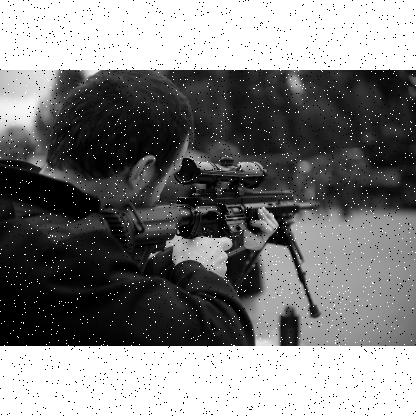gun: (100, 155, 320, 316)
